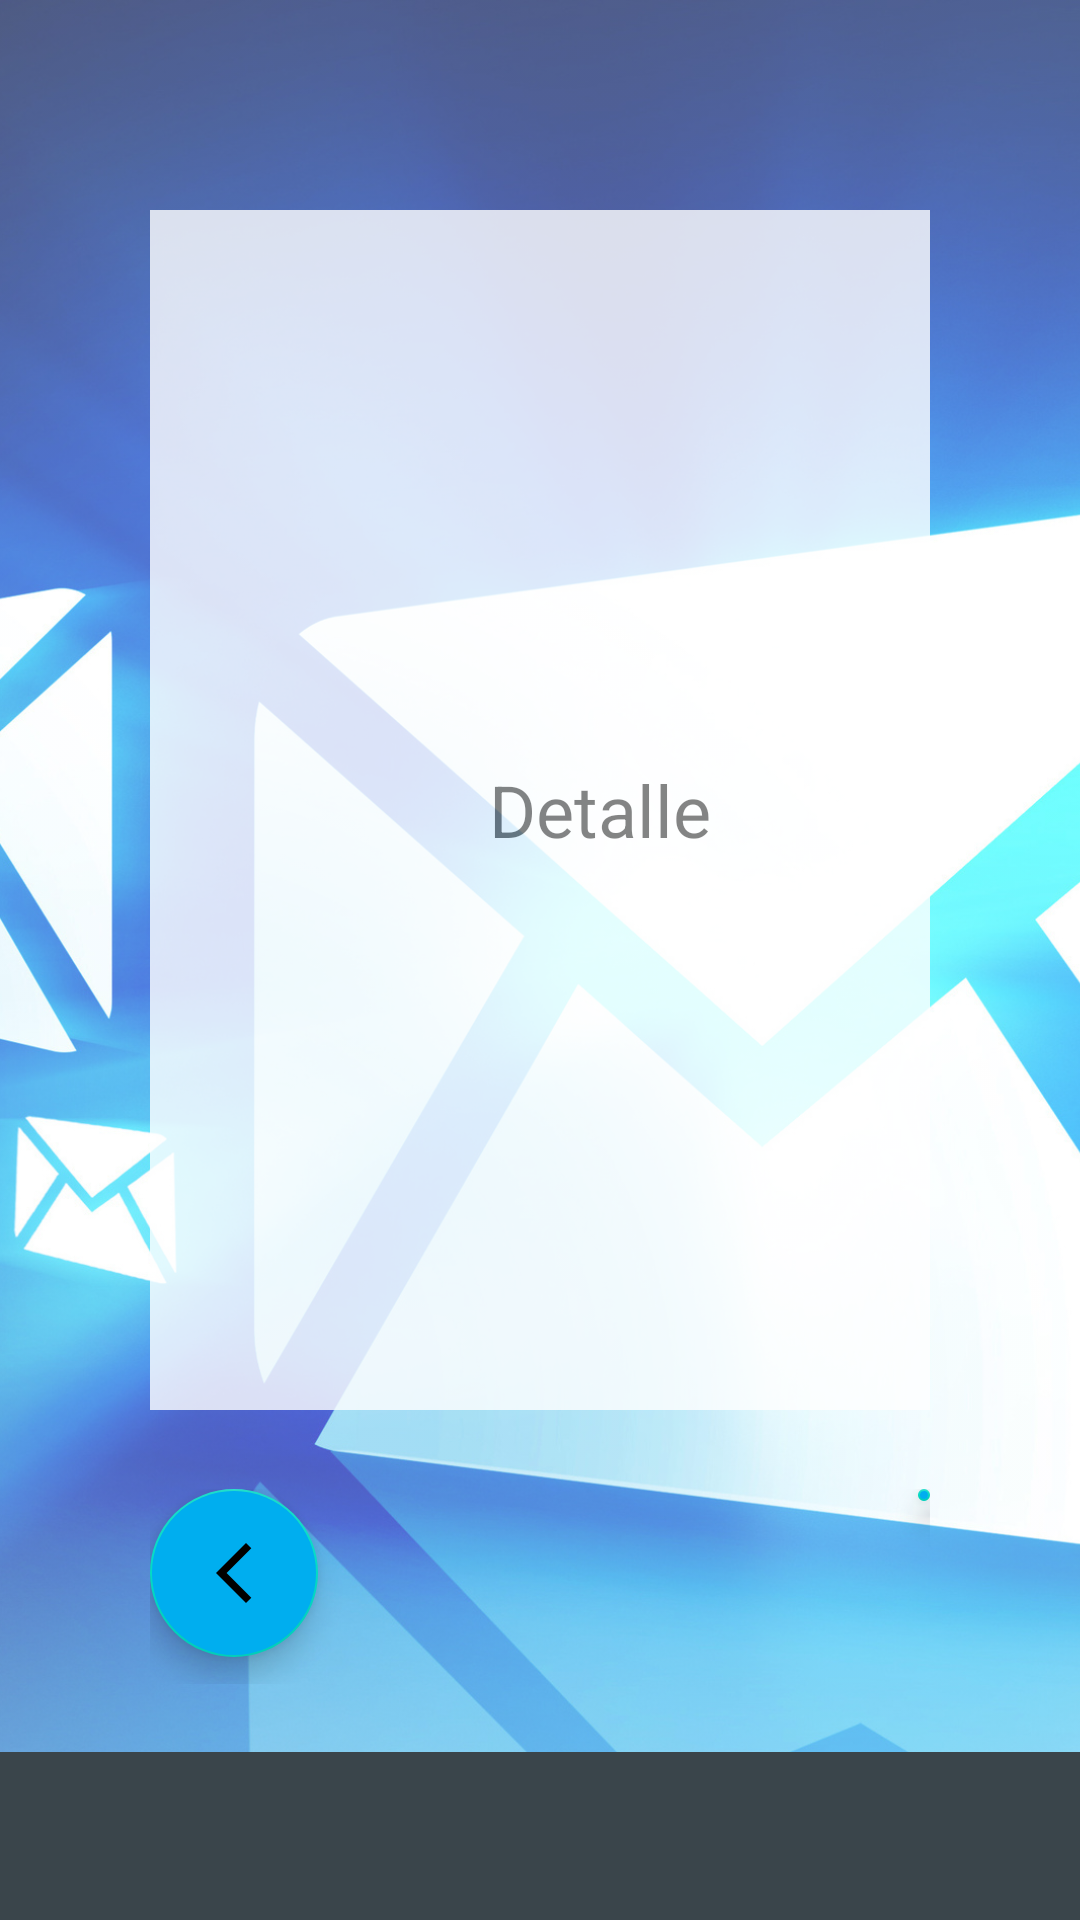

Point at icon controls on the screen. Image size 1080px×1920px, points as (x=x, y=y).
volver: (x=234, y=1573)
